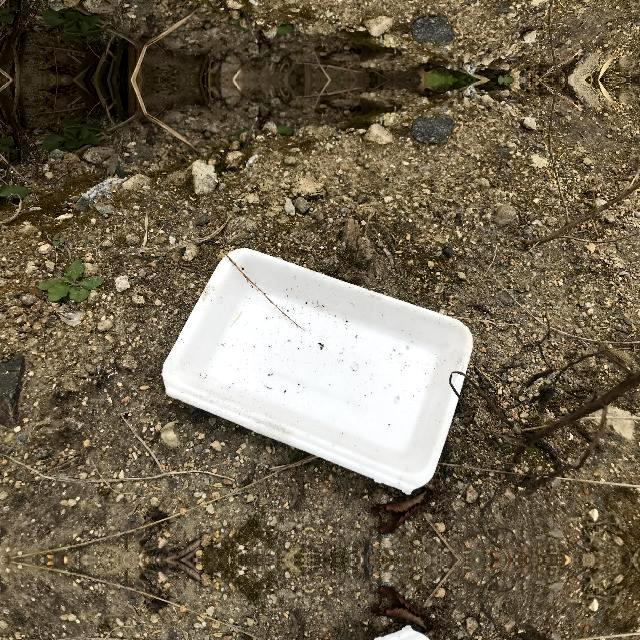Styrofoam: (163, 246, 477, 496), (162, 248, 473, 494)
